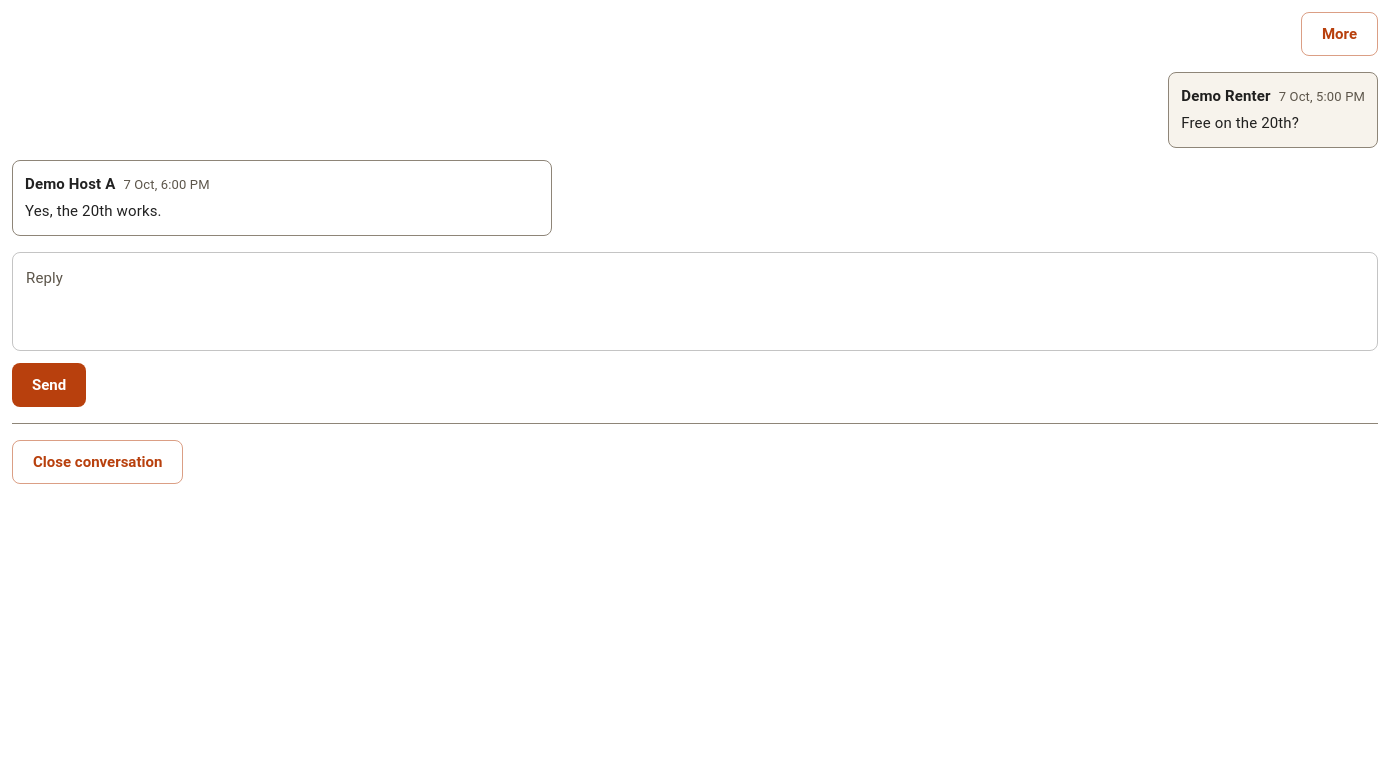
Scenario: shows the rate-limit and generic errors and keeps the text
The width and height of the screenshot is (1390, 780).
Type "Hello" into the text box labelled "Reply" at (695, 302), box [26,268,1364,334]
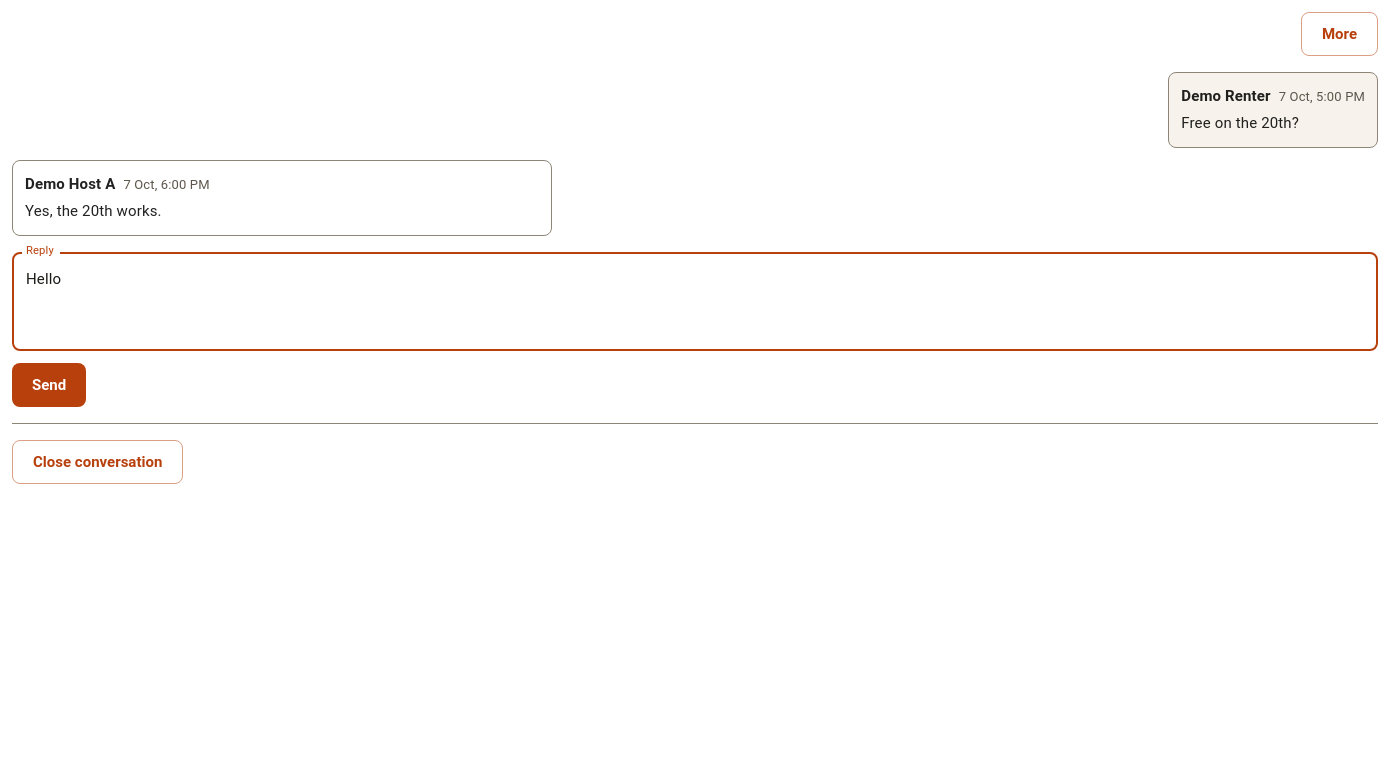
Click the button "Send" at (49, 385), box [12,363,86,407]
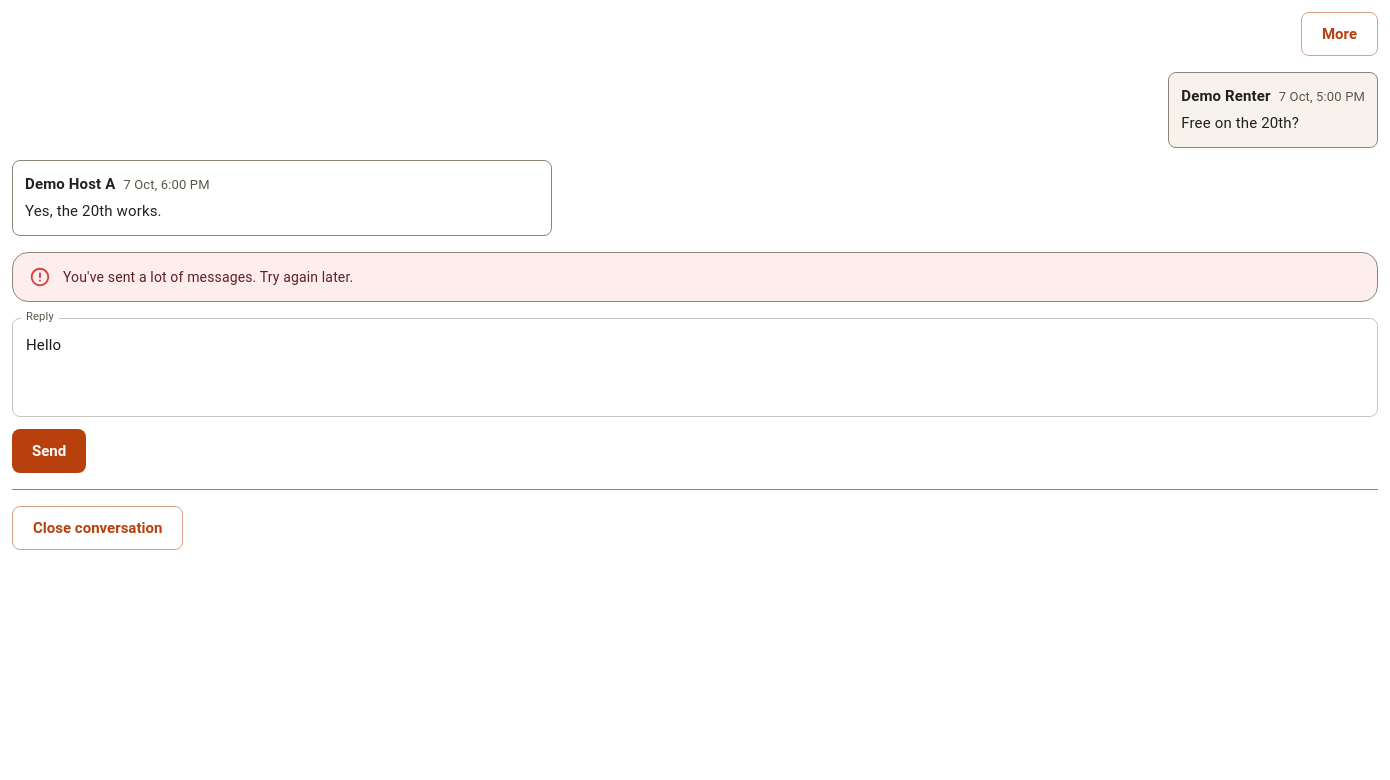
Expected: the message reads "You've sent a lot of messages. Try again later.", [63,269,353,285]
Click the button "Send" at (49, 451), box [12,429,86,473]
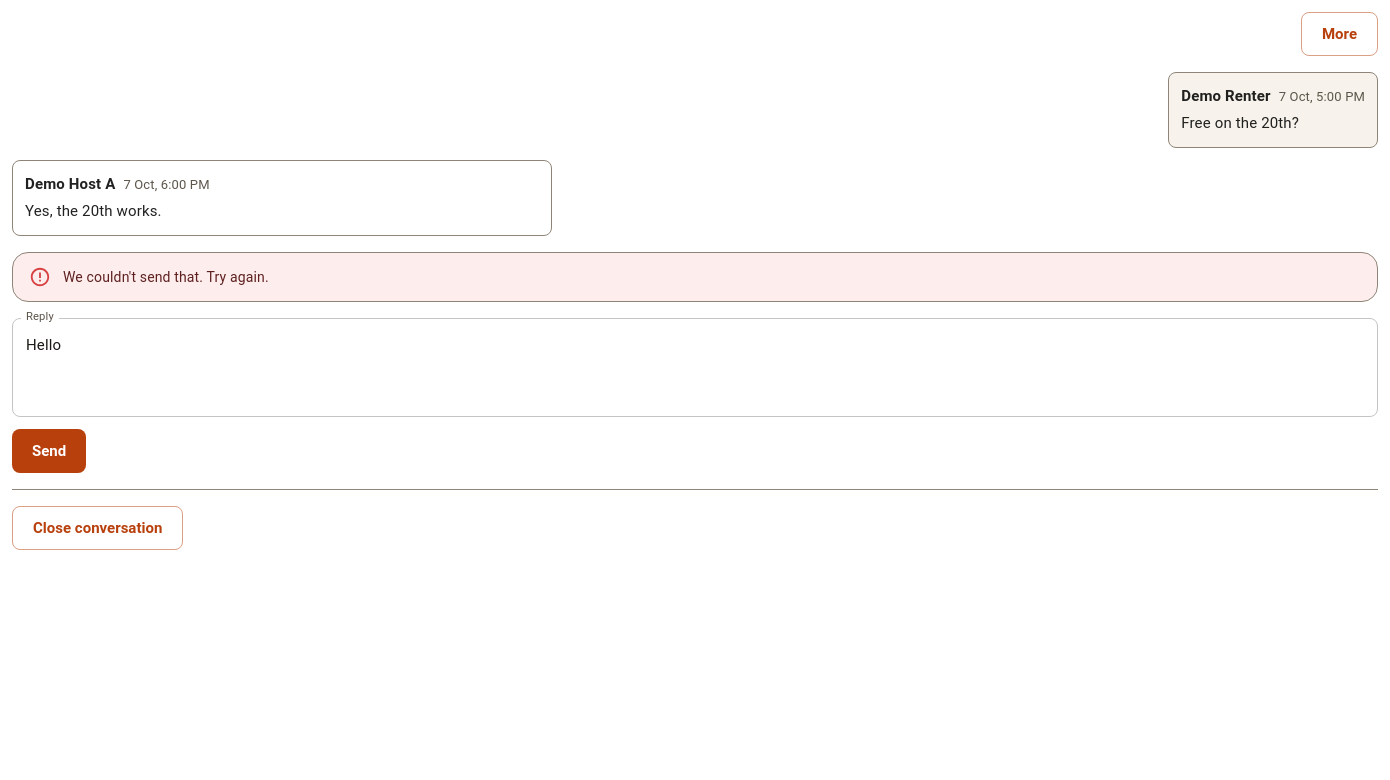
Expected: the message reads "We couldn't send that. Try again.", [63,269,269,285]
